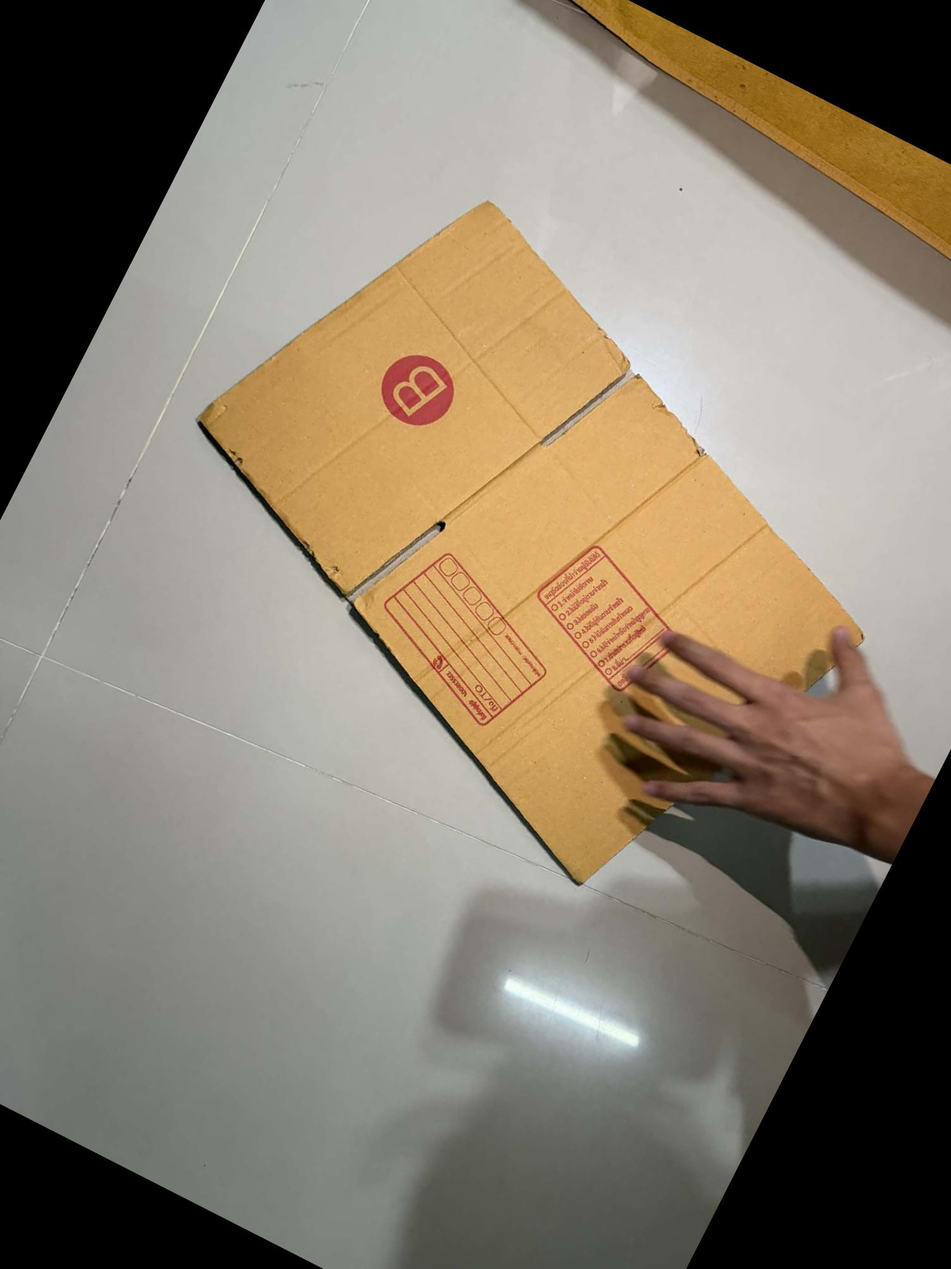box: (353, 528, 582, 740), (515, 519, 709, 707), (362, 339, 471, 441)
class0: (76, 110, 951, 966)
